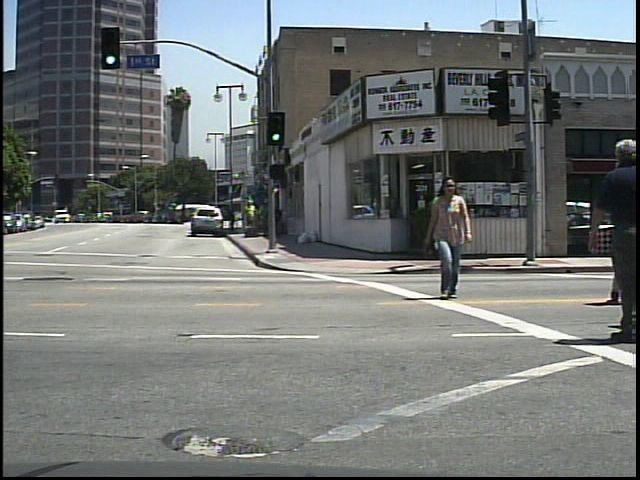person: (423, 172, 474, 301)
